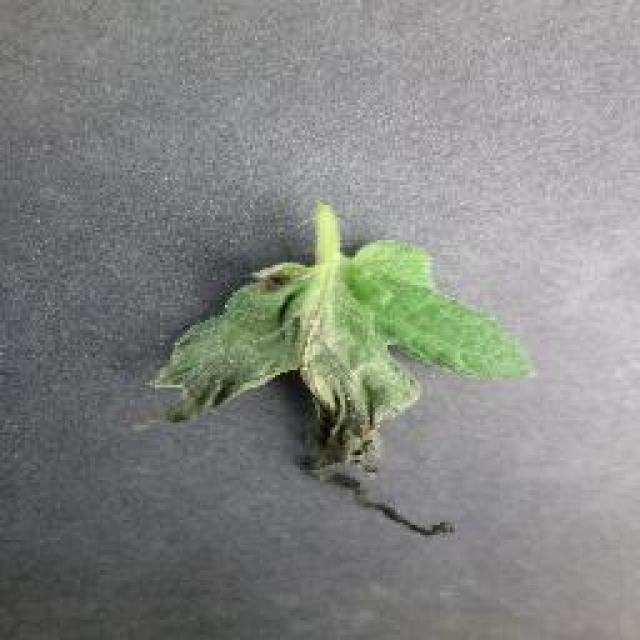Tomato Late Blight: (230, 312, 463, 505)
